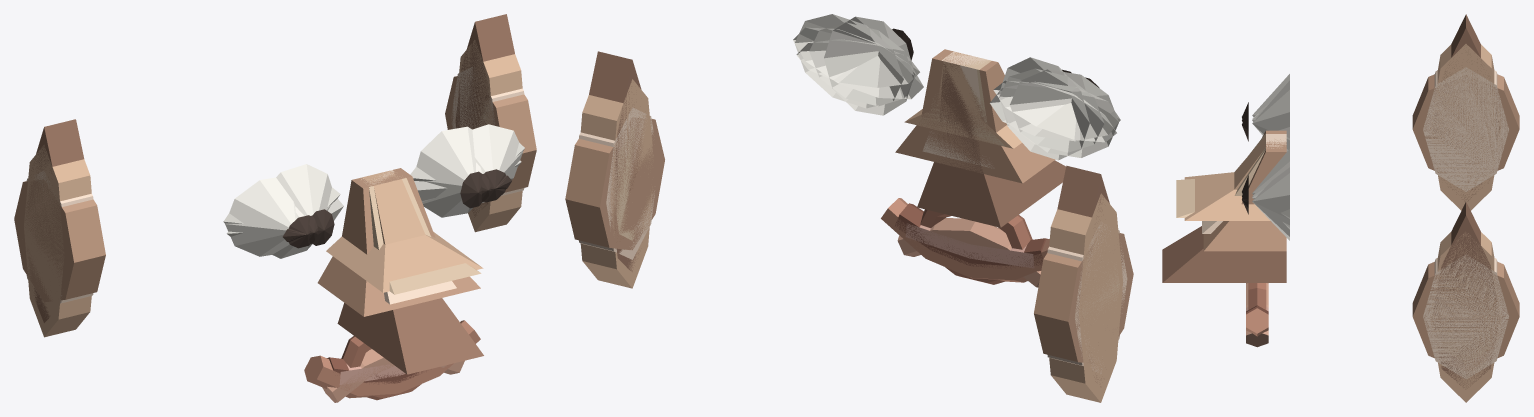
File: FaceParts.fbx
The picture shows the model from 3 angles, left to right: view 1: azimuth 30°, elevation 25°; view 2: azimuth 150°, elevation 25°; view 3: azimuth 270°, elevation 25°; orthographic projection. The views are drawn at different scales.
Parts seen in each view (by area): view 1: Ears_1, Ears_2, Nose_1, Nose_3, Eyes_4_White, Eyes_2_White, Ears_3, Nose_2, Mouth_1, Nose_4, Ears_0, Mouth_4 (+7 smaller); view 2: Ears_1, Ears_2, Nose_3, Nose_2, Eyes_4_White, Eyes_2_White, Ears_3, Eyes_3_White, Eyes_0_White, Ears_0, Eyes_1_White, Nose_1 (+8 smaller); view 3: Ears_0, Ears_1, Ears_2, Ears_3, Nose_3, Nose_2, Nose_1, Ears_4, Eyes_4_White, Eyes_2_White, Nose_4, Mouth_1 (+3 smaller).
Boxes of the visible parts, x1,y1,x2,y2 form: Ears_1: (24, 40, 522, 337); Ears_2: (14, 75, 536, 302); Nose_1: (326, 170, 483, 292); Nose_3: (337, 298, 483, 374); Eyes_4_White: (225, 124, 523, 256); Eyes_2_White: (272, 126, 475, 258); Ears_3: (31, 14, 514, 322); Nose_2: (317, 168, 480, 316); Mouth_1: (304, 320, 480, 398); Nose_4: (359, 175, 481, 294); Ears_0: (26, 67, 524, 303); Mouth_4: (322, 348, 464, 402); Ears_1: (580, 79, 1122, 402); Ears_2: (565, 117, 1133, 363); Nose_3: (917, 61, 1065, 227); Nose_2: (895, 49, 1055, 183); Eyes_4_White: (794, 14, 1118, 157); Eyes_2_White: (824, 16, 1089, 160); Ears_3: (589, 51, 1109, 386); Eyes_3_White: (796, 39, 1116, 142); Eyes_0_White: (809, 22, 1104, 152); Ears_0: (579, 107, 1127, 373); Eyes_1_White: (793, 27, 1120, 141); Nose_1: (904, 52, 1021, 148); Ears_0: (1423, 67, 1508, 378); Ears_1: (1430, 44, 1502, 402); Ears_2: (1412, 74, 1519, 370); Ears_3: (1432, 14, 1499, 389); Nose_3: (1162, 226, 1286, 282); Nose_2: (1203, 130, 1286, 251); Nose_1: (1184, 135, 1270, 220); Ears_4: (1436, 90, 1496, 363); Eyes_4_White: (1252, 74, 1289, 240); Eyes_2_White: (1252, 80, 1289, 194); Nose_4: (1176, 133, 1265, 217); Mouth_1: (1246, 308, 1268, 336).
Size of the model in its own units: 27.6 by 13.7 by 20.7.
